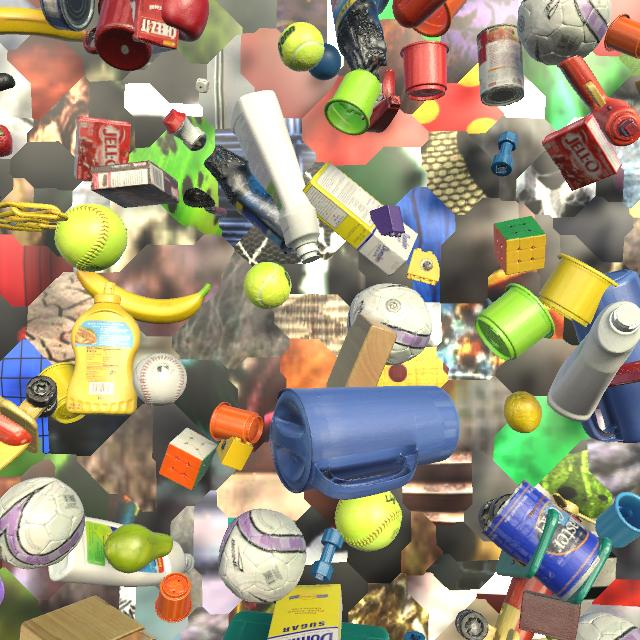ycb_002_master_chef_can: (481, 479, 600, 602)
ycb_003_cracker_box: (130, 0, 179, 54)
ycb_004_sugar_box: (303, 161, 418, 276), (267, 584, 342, 640)
ycb_005_tomato_soup_can: (477, 24, 525, 107)
ycb_006_mustard_bottle: (66, 282, 141, 415)
ycb_007_tuna_fish_can: (40, 0, 95, 32)
ycb_008_pudding_box: (91, 160, 179, 208)
ycb_009_gelatin_box: (542, 114, 622, 191), (74, 116, 131, 181)
ycb_011_banana: (76, 270, 212, 324), (0, 7, 86, 42)
ycb_012_strawberry: (0, 124, 13, 157)
ycb_013_apple: (161, 0, 209, 42)
ycb_014_lemon: (504, 391, 542, 433)
ycb_016_pear: (104, 524, 173, 573)
